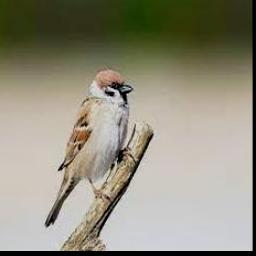Sparrow: (45, 68, 132, 226)
